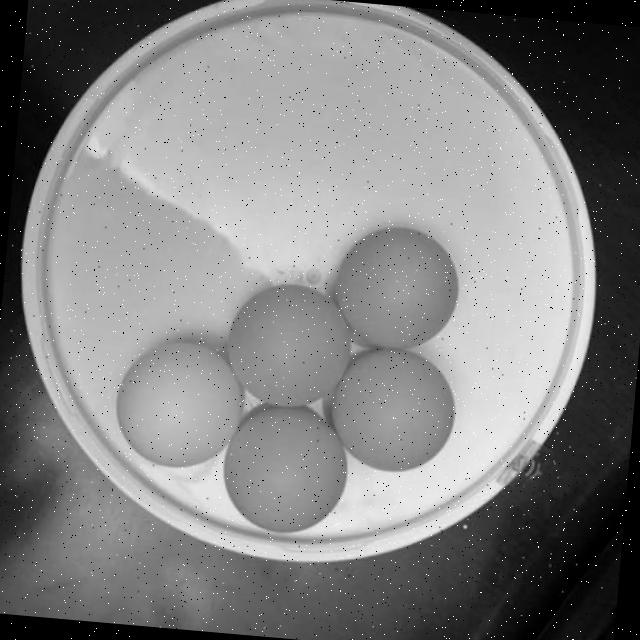ping-pong-ball: (108, 332, 252, 477), (213, 397, 356, 539), (321, 338, 466, 478), (324, 216, 468, 356), (219, 274, 359, 416)
